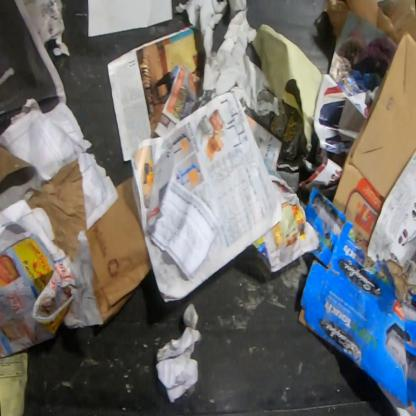cardboard: (296, 184, 415, 415), (332, 29, 415, 247), (0, 142, 33, 186), (322, 0, 352, 41)
soft_plastic: (343, 0, 415, 46)
